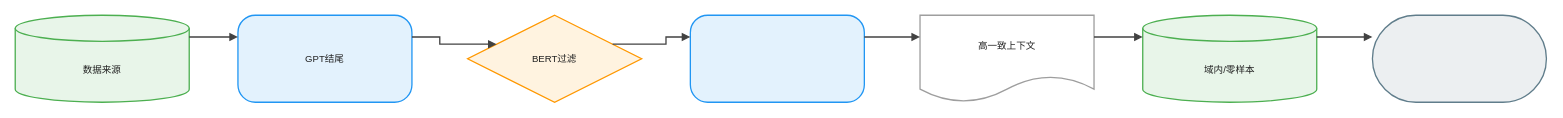
This 1563x118 diagram has some shape labels left out. Each missing label, with the centre of its shape:
"人工过滤" goes at point 777,58.
"准确率" goes at point 1459,58.
